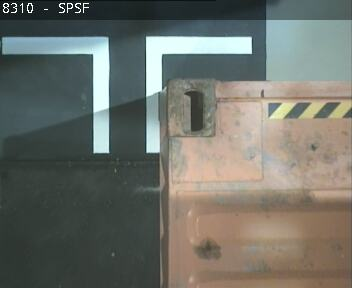groundmarker_1: (2, 36, 251, 152)
